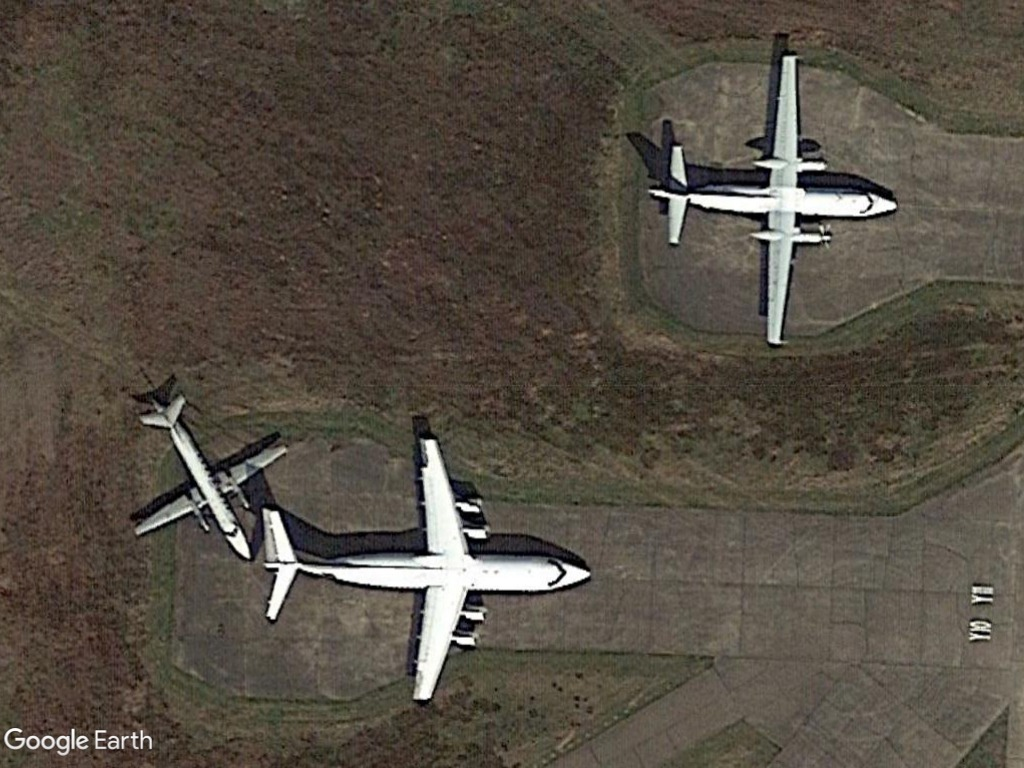airliner: (255, 432, 594, 726)
propeller: (637, 46, 904, 350), (131, 392, 290, 564)
